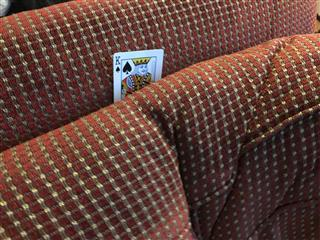KingOfSpades: (111, 48, 164, 102)
